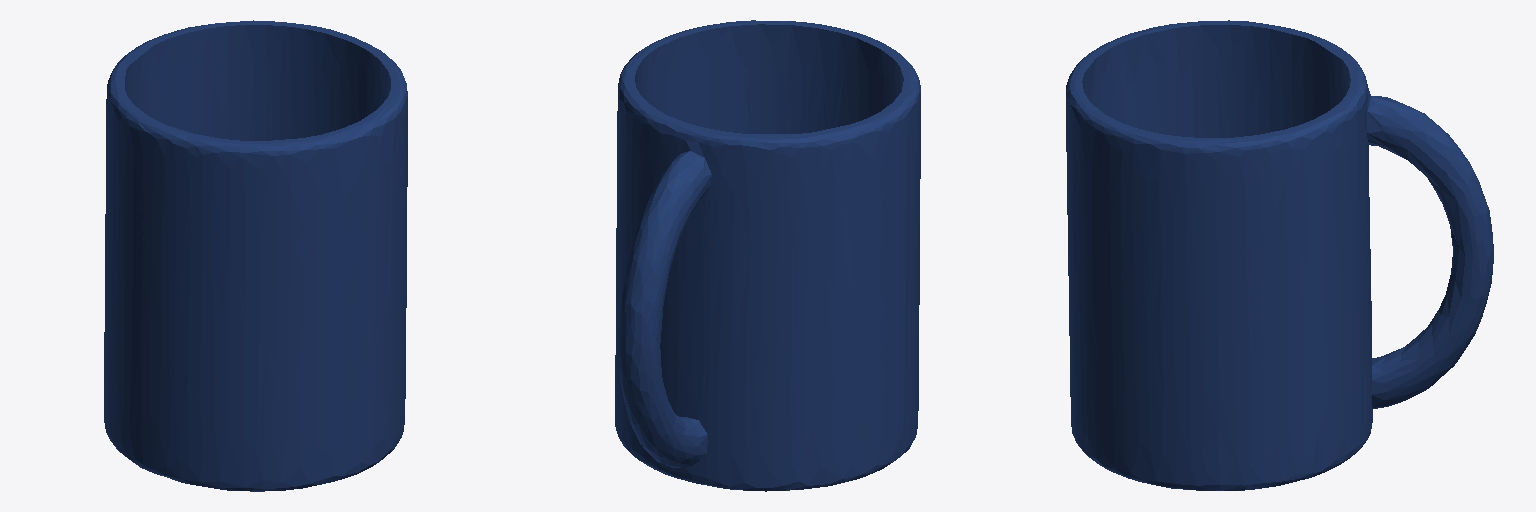
URDF robot description (design):
<?xml version="1.0"?>
<robot name="design">
  <material name="obj_color">
      <color rgba="0.2 0.3 0.5 1.0"/>
  </material>
  <link name="base">
    <visual>
      <origin xyz="0.0 0.0 0.0"/>
      <geometry>
        <mesh filename="mug.obj" scale="1 1 1"/>
      </geometry>
      <material name="obj_color"/>
    </visual>
    <collision>
      <origin xyz="0.0 0.0 0.0"/>
      <geometry>
        <mesh filename="mug.obj" scale="1 1 1"/>
      </geometry>
    </collision>
  </link>
</robot>

--- Facts derived from the render (not from the file) ---
The picture shows the robot from 3 angles, left to right: view 1: azimuth 30°, elevation 25°; view 2: azimuth 150°, elevation 25°; view 3: azimuth 270°, elevation 25°; orthographic projection.
Robot: design — 1 links, 0 joints (none); root link base; default pose: every joint at zero.
Links seen in each view (by area): view 1: base; view 2: base; view 3: base.
Boxes of the visible links, box(x1,y1,x2,y2) form: base: box(104, 20, 407, 491); base: box(615, 20, 920, 491); base: box(1066, 20, 1493, 490).
Bounding box of the posed robot: 0.0821 × 0.1163 × 0.1056 m (x, y, z).
Meshes: 1 distinct files referenced, 1 mesh visuals loaded (1 OBJ).
